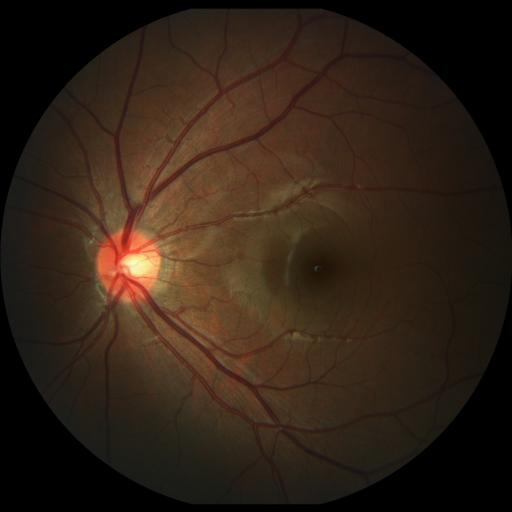Optic Cup: (118, 253, 153, 277)
Optic Disc: (97, 228, 161, 302)
